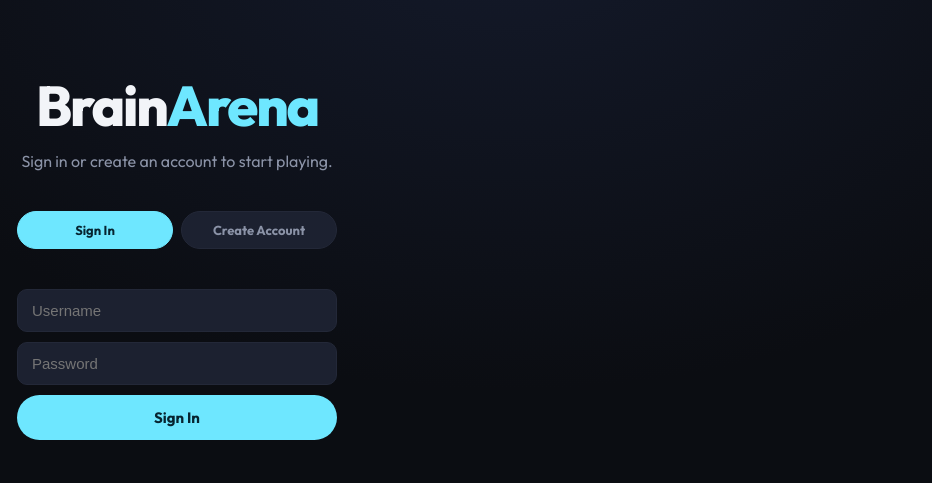
Test: <App /> navigation › rejects sign-in for an unknown account
Expected: the form named "account" is shown, [17,289,337,440]
In the field labelled "Username": (177,310) [17,289,337,332], type "Nobody"
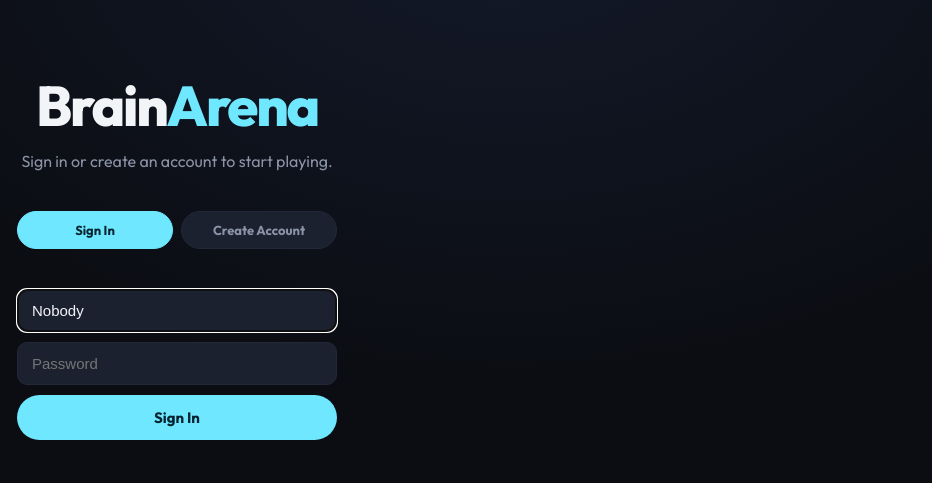
In the password field labelled "Password": (177,364) [17,342,337,385], type "secret1"
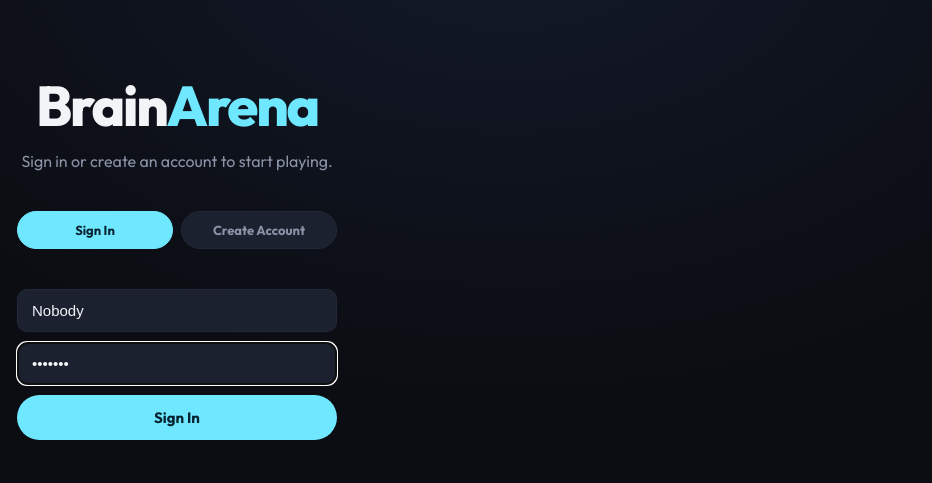
Click the 2nd button "Sign In": (177,418) [17,395,337,440]
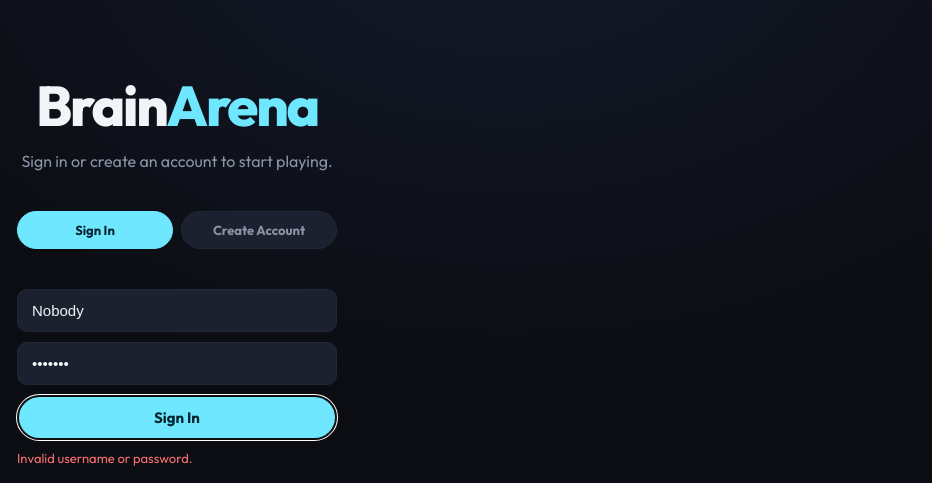
Result: the message "Invalid username or password." is shown at [17,450,192,466]
